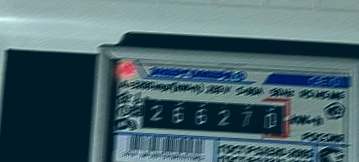0: (263, 112, 276, 130)
2: (148, 104, 162, 123), (217, 109, 229, 127)
6: (171, 106, 184, 125), (194, 109, 207, 127)
7: (240, 110, 252, 129)
screen: (131, 88, 296, 146)
